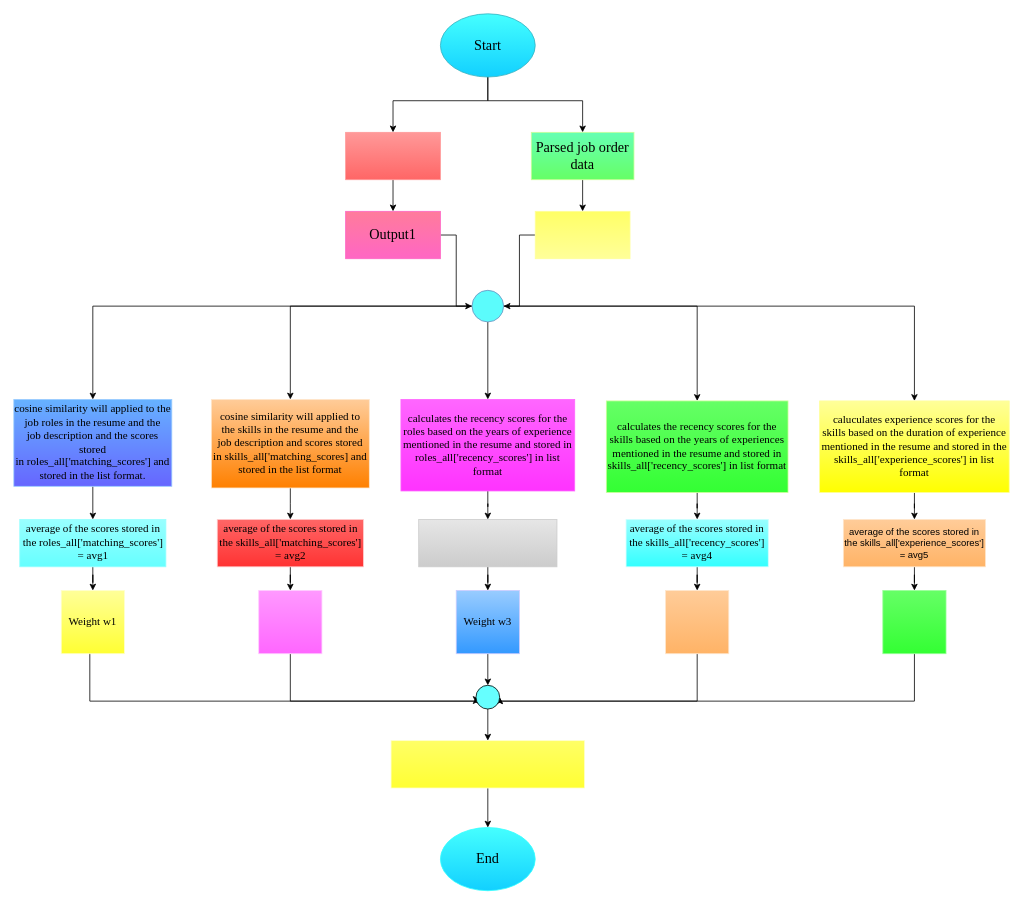
The diagram is 1023 pixels wide and 905 high, and some of its shapes have lost their labels. Here are the shapes that lost their labels. From the top down, the box of each, then its label:
(345, 132, 440, 180): Parsed resume data
(534, 211, 630, 259): Output 2
(418, 519, 557, 567): average of the scores stored in the roles_all['recency_scores'] = avg3
(258, 590, 322, 654): Weight w2
(665, 590, 729, 654): Weight w4
(882, 590, 946, 654): Weight w5
(390, 740, 585, 788): final_score = avg1*w1+ avg2*w2 + avg3*w3 + avg4*w4 + avg5*w5
